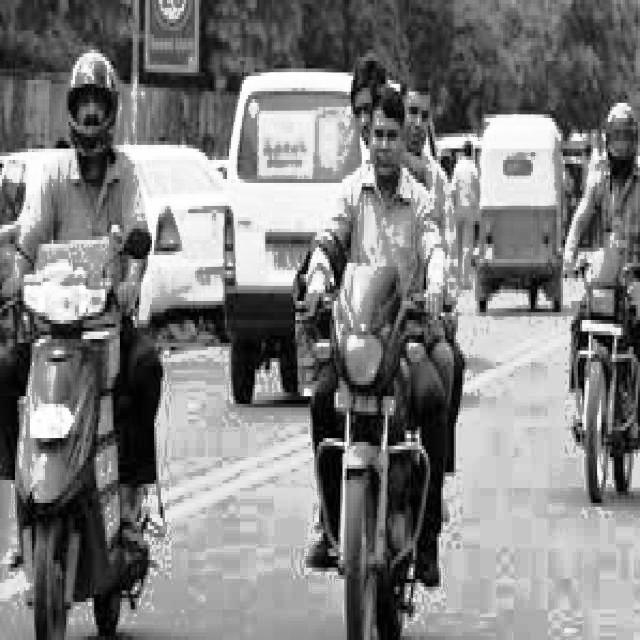Bike: (1, 229, 175, 640), (294, 267, 462, 640), (549, 243, 640, 502)
